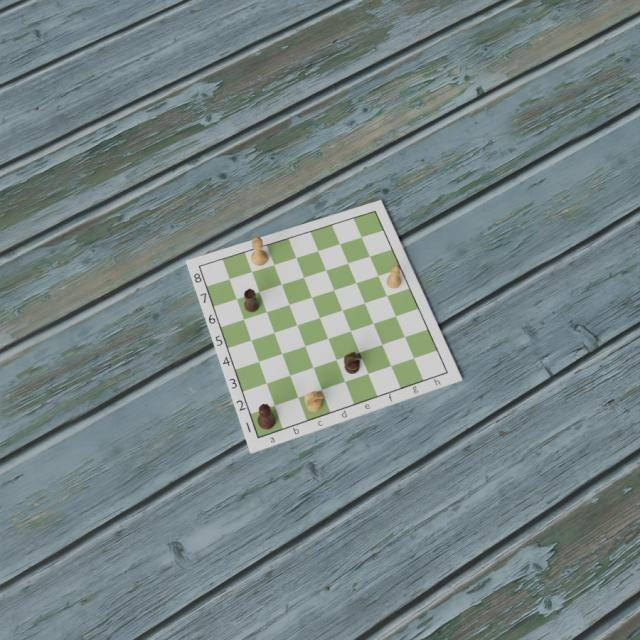black-king: (256, 402, 276, 430)
black-knight: (342, 352, 361, 375)
black-rook: (243, 287, 260, 313)
white-king: (249, 238, 268, 266)
white-knight: (303, 389, 324, 414)
white-pawn: (386, 264, 402, 290)
